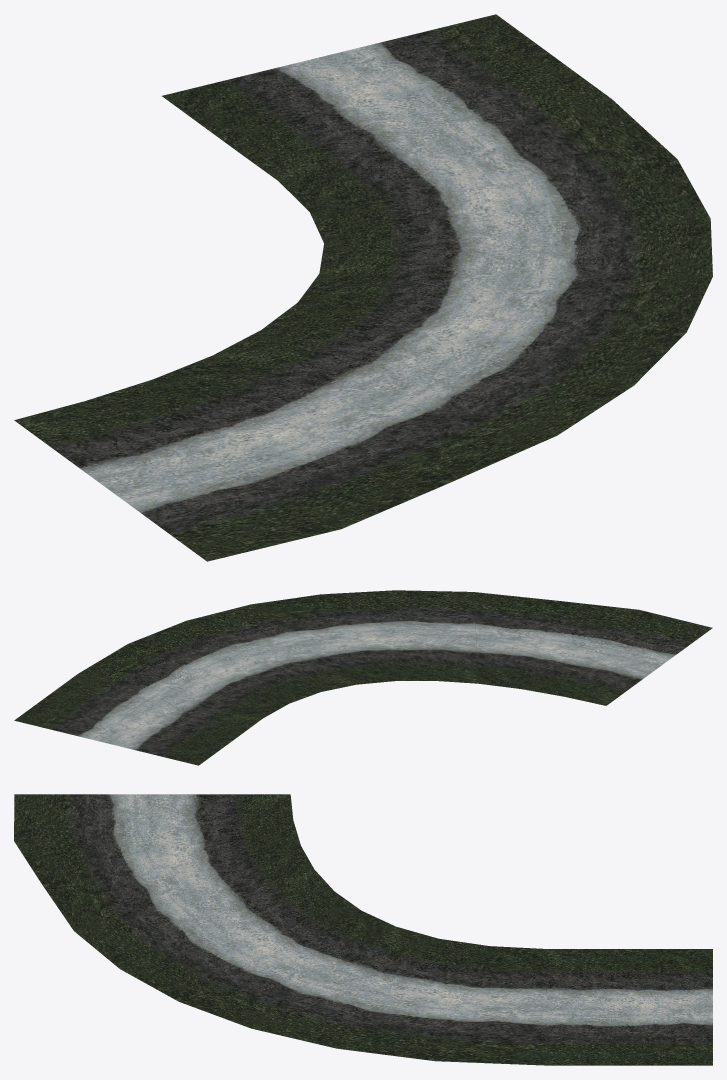
The model's file is SM_EC_Path_Corner_0.fbx.
The picture shows the model from 3 angles, top to bottom: view 1: azimuth 30°, elevation 25°; view 2: azimuth 150°, elevation 25°; view 3: azimuth 270°, elevation 25°; orthographic projection. The views are drawn at different scales.
Visible parts, largest first — view 1: SM_EC_Path_Corner_0; view 2: SM_EC_Path_Corner_0; view 3: SM_EC_Path_Corner_0.
Part boxes in pixels (x1,y1,x2,y2): SM_EC_Path_Corner_0: (14,14,712,561); SM_EC_Path_Corner_0: (14,590,712,765); SM_EC_Path_Corner_0: (14,794,712,1065).
Bounding box in the file's own units: 13.93 × 15.17 × 5.68e-13.
